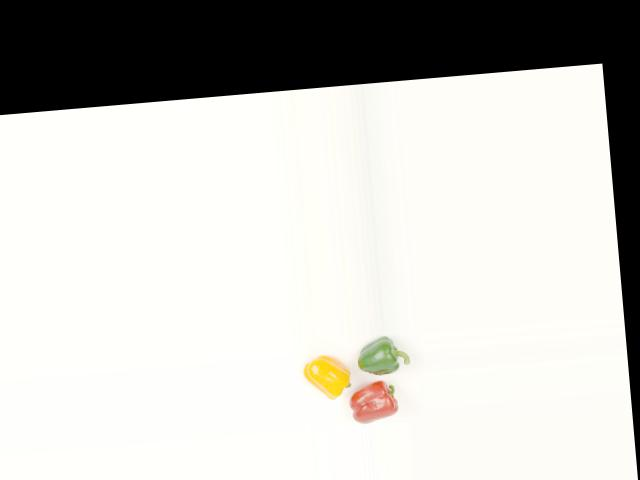bell_pepper: (355, 333, 413, 379)
